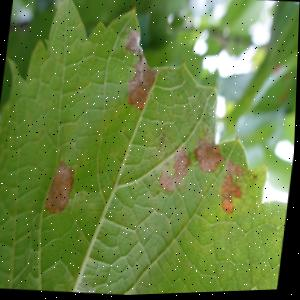Folha: (0, 0, 300, 300)
Fungo: (156, 127, 250, 220), (117, 28, 162, 114), (44, 159, 77, 217), (159, 146, 194, 195), (192, 136, 228, 178), (218, 172, 245, 218), (225, 162, 246, 180), (220, 198, 236, 218)
